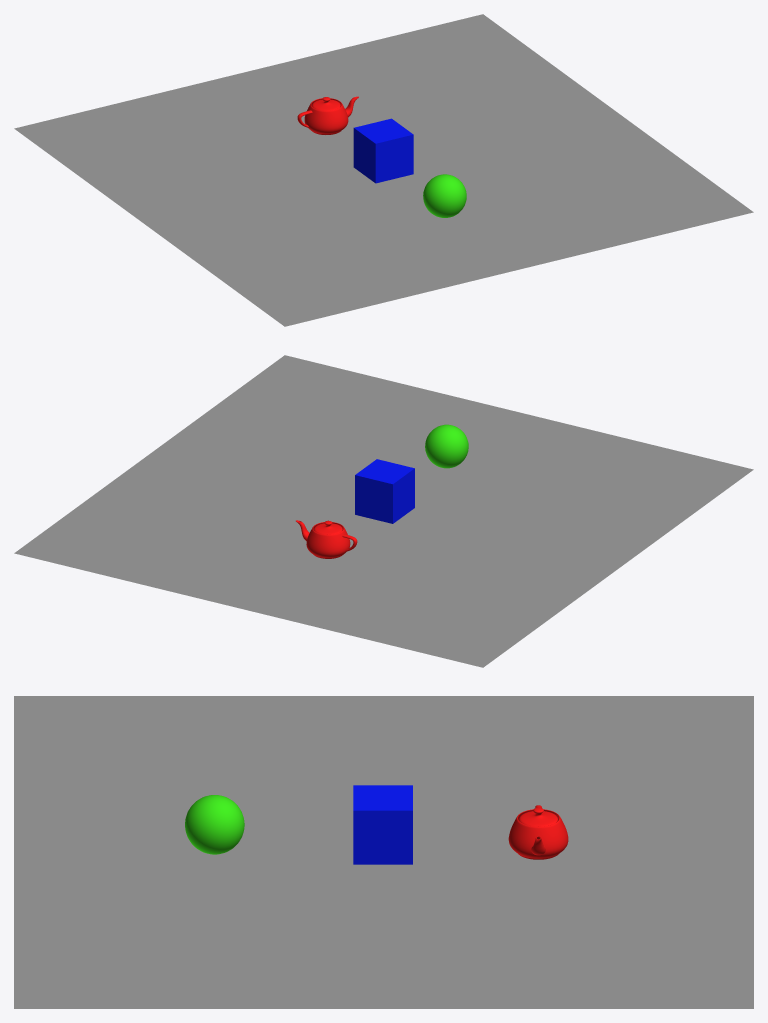
The model's file is testScene.FBX.
3 views of the same model, one above another, from view 1: azimuth 30°, elevation 25°; view 2: azimuth 150°, elevation 25°; view 3: azimuth 270°, elevation 25° (orthographic). The views are drawn at different scales.
Parts seen in each view (by area): view 1: Plane001, Box001, Sphere001, Teapot001; view 2: Plane001, Box001, Sphere001, Teapot001; view 3: Plane001, Box001, Sphere001, Teapot001.
Boxes of the visible parts, x1,y1,x2,y2 form: Plane001: (14, 14, 753, 326); Box001: (353, 118, 413, 183); Sphere001: (423, 174, 466, 217); Teapot001: (297, 96, 358, 134); Plane001: (14, 355, 753, 667); Box001: (355, 459, 414, 523); Sphere001: (425, 424, 468, 468); Teapot001: (296, 520, 357, 558); Plane001: (14, 696, 753, 1008); Box001: (353, 785, 412, 864); Sphere001: (185, 795, 244, 854); Teapot001: (508, 805, 568, 859).
Bounding box in the file's own units: 124 × 124 × 10.
